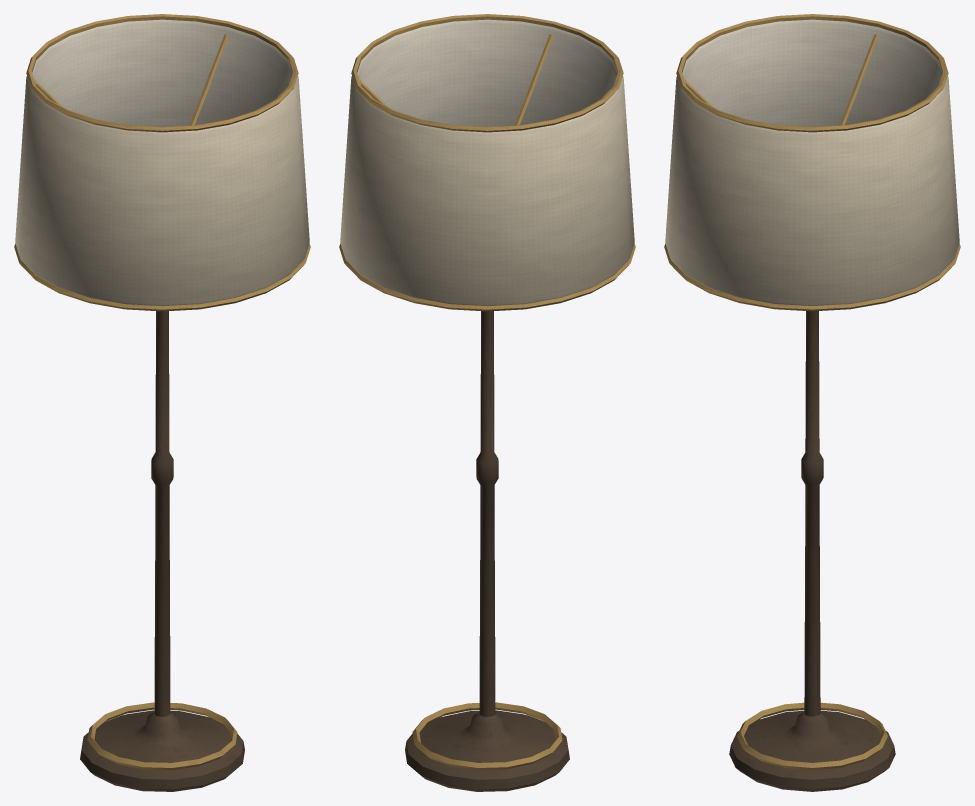
File: hq-floor-lamp.glb
3 views of the same model, side by side, from view 1: azimuth 30°, elevation 25°; view 2: azimuth 150°, elevation 25°; view 3: azimuth 270°, elevation 25° (orthographic).
Parts seen in each view (by area): view 1: hq-floor-lamp; view 2: hq-floor-lamp; view 3: hq-floor-lamp.
Boxes of the visible parts, <box> form: hq-floor-lamp: <box>14,14,310,791</box>; hq-floor-lamp: <box>339,14,635,791</box>; hq-floor-lamp: <box>664,14,960,791</box>.
Bounding box in the file's own units: 0.588 × 1.51 × 0.588.
2 materials, 2 textured.
